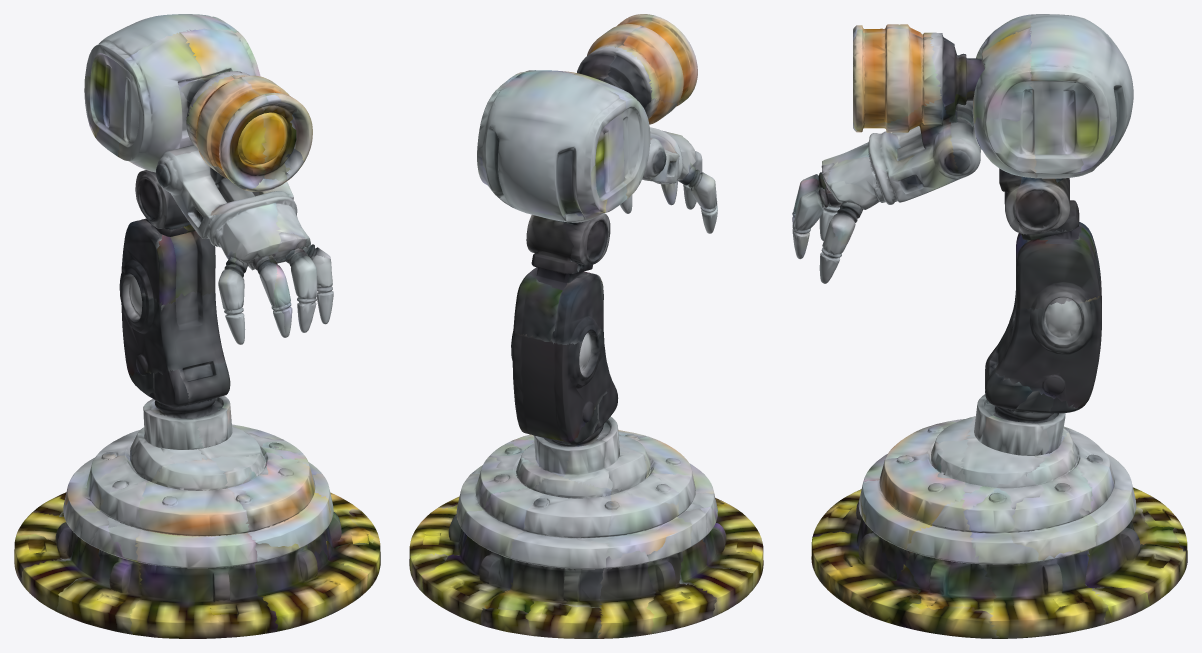
Rendered from robot-arm-lab.glb.
3 renders of one model, left to right at view 1: azimuth 30°, elevation 25°; view 2: azimuth 150°, elevation 25°; view 3: azimuth 270°, elevation 25°, orthographic. The views are drawn at different scales.
Size of the model in its own units: 1.2 by 1.9 by 1.27.
Materials: 1 (1 with a texture image).
